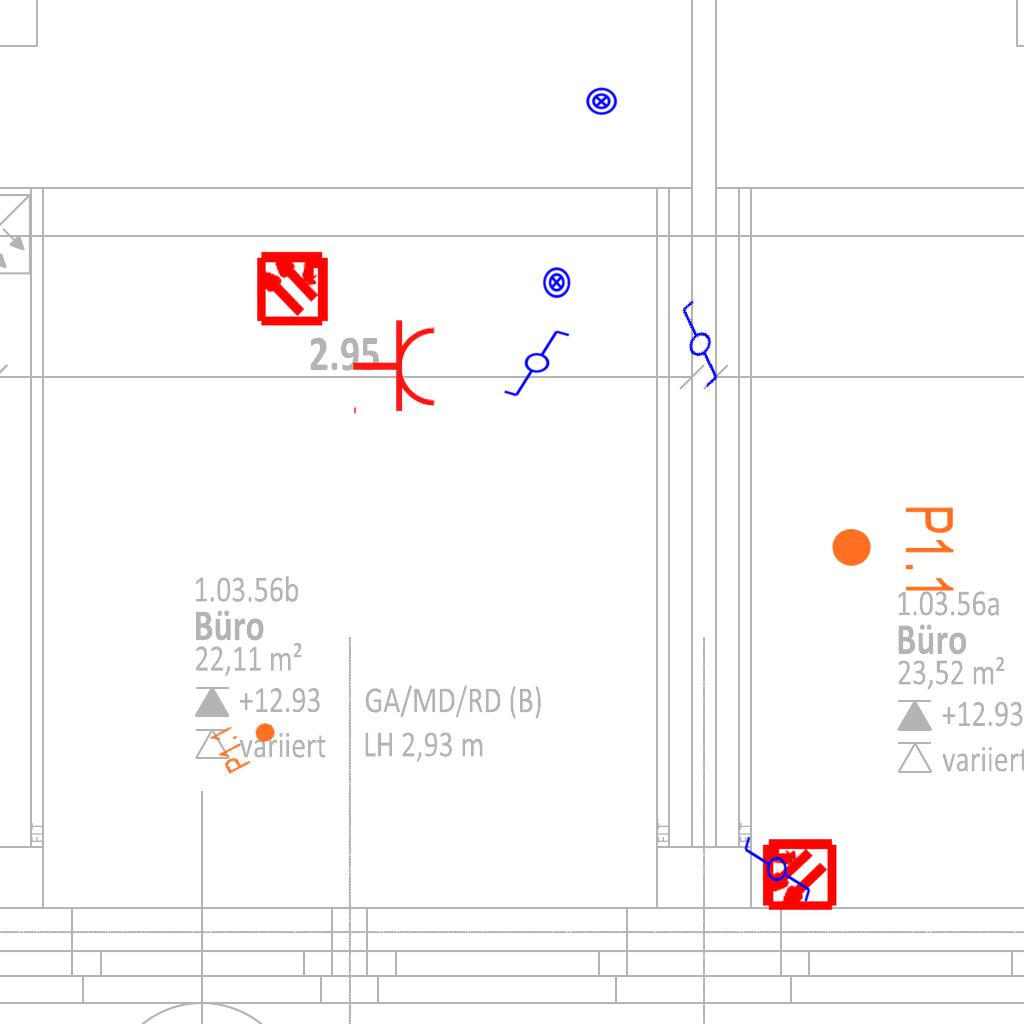Downlight_LED_Einbauleuchten_Flur: (829, 504, 957, 597), (206, 705, 286, 777)
OT_Multisensormelder_(Kombination_RMO_WMD): (236, 230, 349, 343), (741, 818, 854, 931)
Schukosteckdose_einfach: (351, 318, 438, 418)
Taster_beleuchtet: (540, 266, 573, 299), (585, 85, 618, 118)
Wechselschalter: (645, 294, 749, 400), (502, 328, 580, 400), (742, 826, 814, 904)
